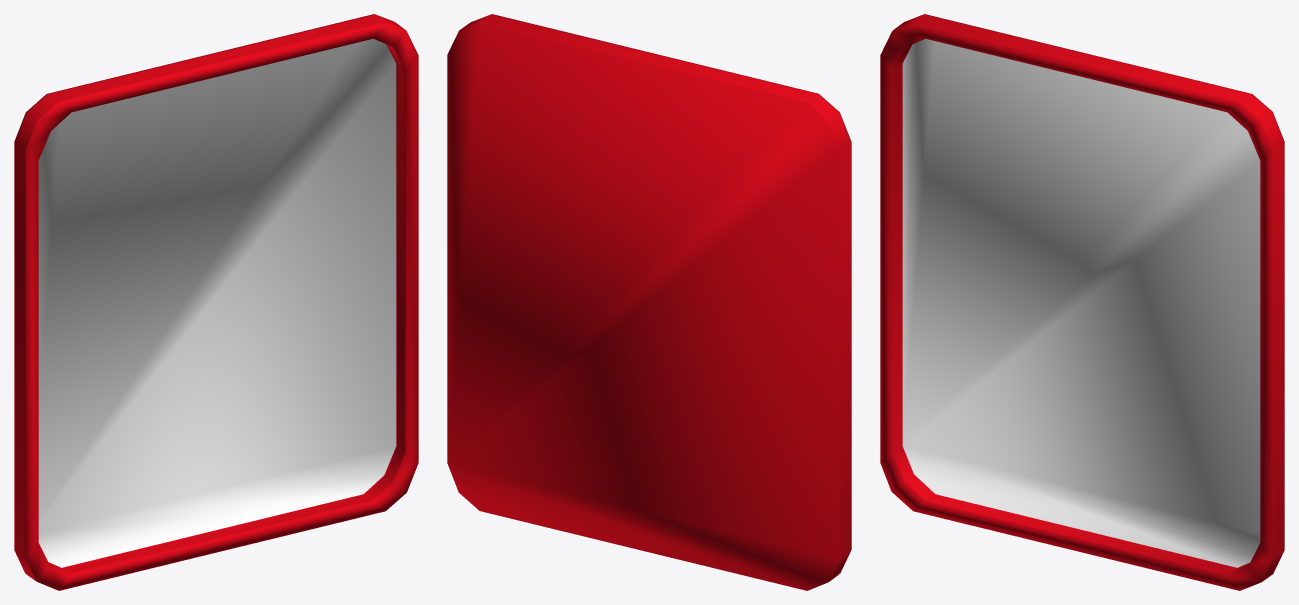
The model's file is Wall frame_1.fbx.
3 renders of one model, left to right at view 1: azimuth 30°, elevation 25°; view 2: azimuth 150°, elevation 25°; view 3: azimuth 330°, elevation 25°, orthographic.
Visible parts, largest first — view 1: Wall frame; view 2: Wall frame; view 3: Wall frame.
Part boxes in pixels (x1,y1,x2,y2): Wall frame: (14, 14, 418, 590); Wall frame: (447, 14, 851, 590); Wall frame: (880, 14, 1284, 590).
Size of the model in its own units: 109 by 129 by 5.75.
